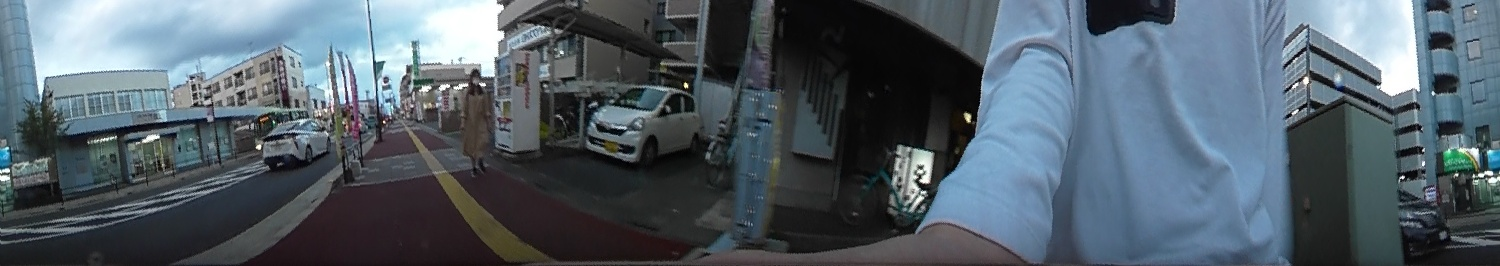person: (463, 63, 491, 177)
